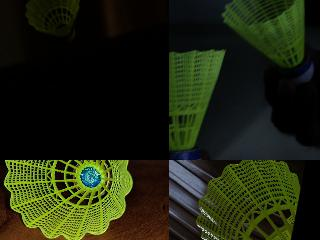shuttlecock: (4, 160, 133, 239), (196, 160, 300, 239), (221, 0, 314, 85), (169, 50, 225, 159), (24, 0, 80, 42)
